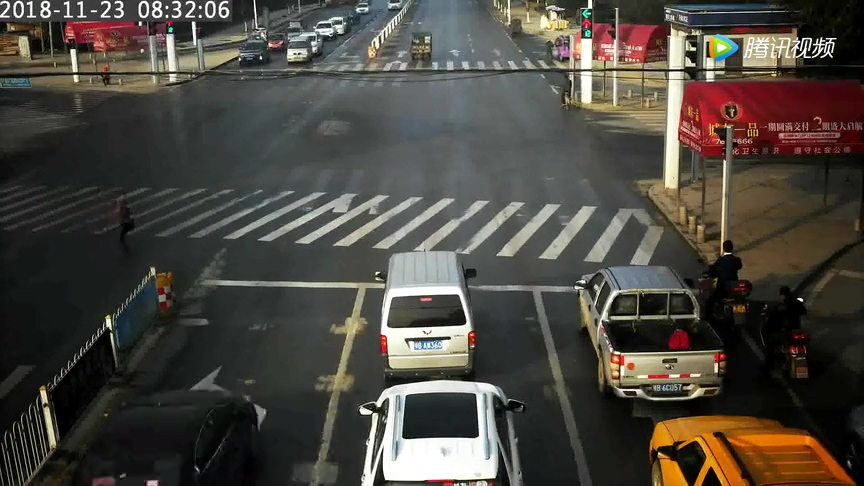car: (570, 261, 731, 414), (352, 381, 537, 486), (362, 239, 492, 381), (232, 36, 277, 67), (405, 25, 438, 66), (285, 38, 322, 69)
person: (697, 231, 749, 351), (756, 274, 809, 383), (104, 185, 142, 253), (552, 73, 579, 111), (93, 60, 117, 94), (540, 39, 556, 64)
